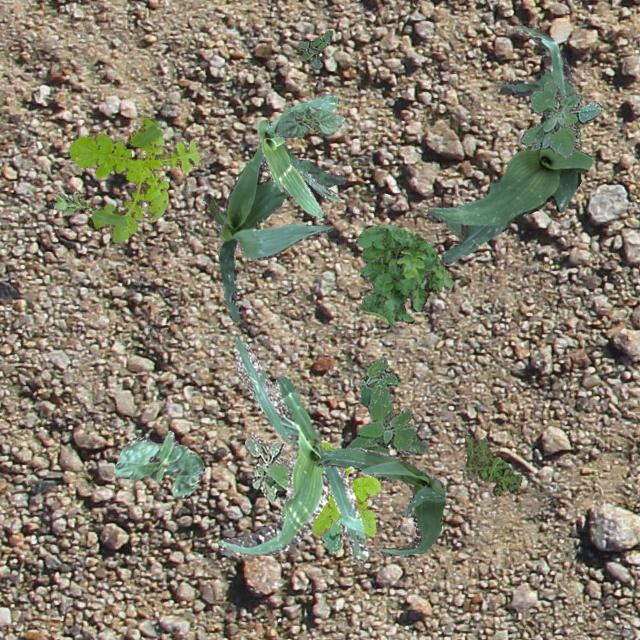crop: (424, 23, 590, 264), (215, 336, 368, 564), (202, 144, 346, 322), (314, 446, 444, 554), (255, 92, 338, 216), (112, 430, 204, 498), (274, 105, 344, 136)
weed: (68, 116, 200, 242), (244, 433, 342, 552), (354, 224, 452, 326), (346, 356, 426, 480), (312, 440, 379, 536), (520, 78, 600, 156), (464, 434, 520, 496), (296, 28, 332, 68), (52, 190, 98, 214)
